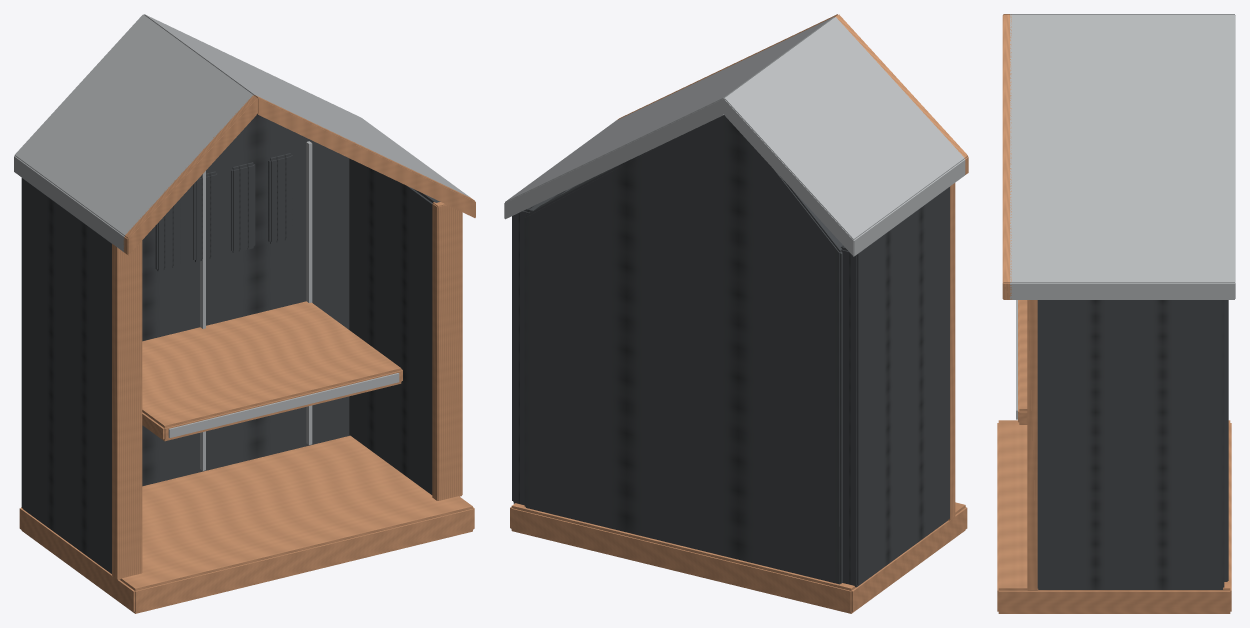
3 renders of one model, left to right at view 1: azimuth 30°, elevation 25°; view 2: azimuth 150°, elevation 25°; view 3: azimuth 270°, elevation 25°, orthographic.
Parts seen in each view (by area): view 1: Cork base and side cheeks, Graphite felt lining, Asymmetric nickel gable, Floating handset shelf; view 2: Graphite felt lining, Cork base and side cheeks, Asymmetric nickel gable; view 3: Cork base and side cheeks, Asymmetric nickel gable, Floating handset shelf, Graphite felt lining.
Boxes of the visible parts, left/top/right/bottom form: Cork base and side cheeks: left=19, top=158, right=474, bottom=613; Graphite felt lining: left=142, top=114, right=349, bottom=486; Asymmetric nickel gable: left=14, top=14, right=475, bottom=255; Floating handset shelf: left=142, top=301, right=402, bottom=441; Graphite felt lining: left=524, top=114, right=842, bottom=584; Cork base and side cheeks: left=510, top=177, right=967, bottom=613; Asymmetric nickel gable: left=504, top=14, right=968, bottom=256; Cork base and side cheeks: left=997, top=300, right=1231, bottom=613; Asymmetric nickel gable: left=1002, top=14, right=1235, bottom=299; Floating handset shelf: left=1016, top=300, right=1027, bottom=424; Graphite felt lining: left=1224, top=300, right=1228, bottom=581.
Size of the model in its own units: 2.15 by 2.86 by 1.25.
1 material, 1 textured.
